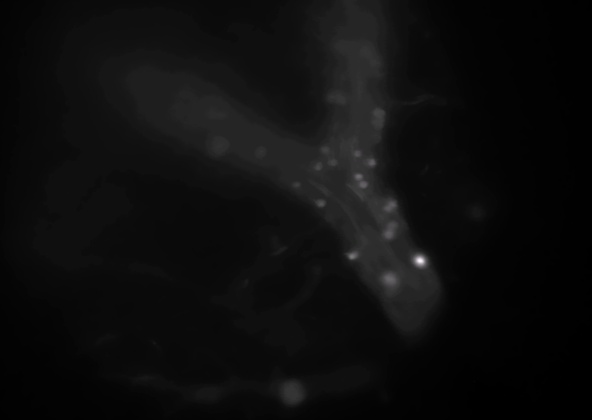cell: (414, 254, 428, 268), (372, 106, 386, 120), (348, 147, 362, 161), (365, 154, 379, 168), (317, 142, 331, 156), (310, 158, 324, 172), (325, 155, 339, 169), (324, 89, 338, 103), (350, 169, 364, 183), (332, 92, 346, 106), (356, 178, 370, 192), (344, 250, 358, 264), (382, 271, 396, 285), (380, 228, 394, 242), (387, 196, 401, 210), (387, 219, 401, 233), (380, 201, 394, 215), (313, 196, 327, 210), (291, 177, 305, 191), (254, 144, 268, 158), (208, 136, 222, 150), (358, 43, 372, 57), (367, 56, 381, 70), (331, 40, 345, 54), (370, 130, 384, 144), (372, 117, 386, 131)
